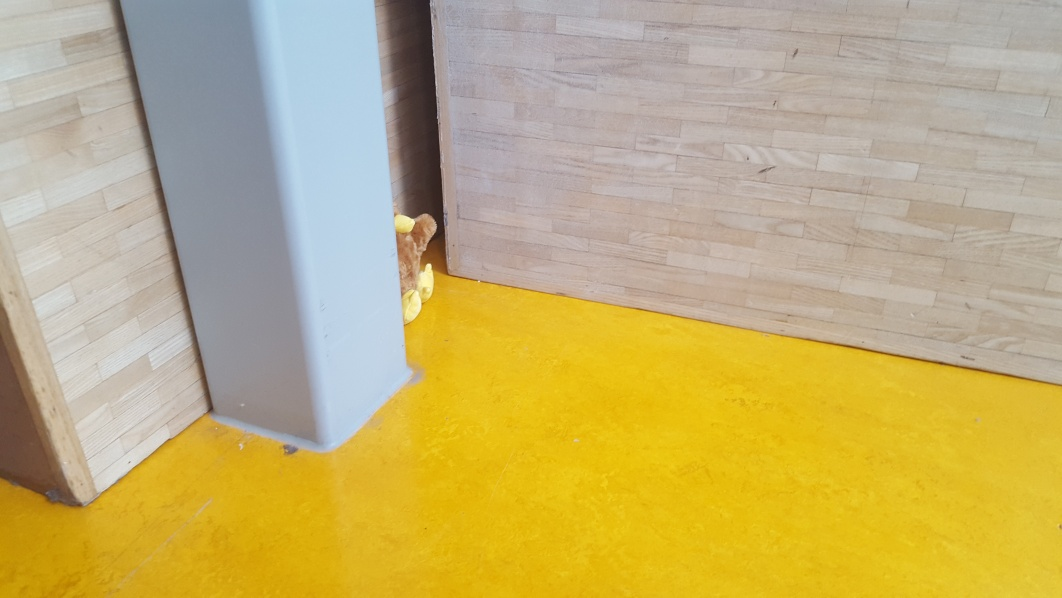chicken: (392, 196, 438, 331)
